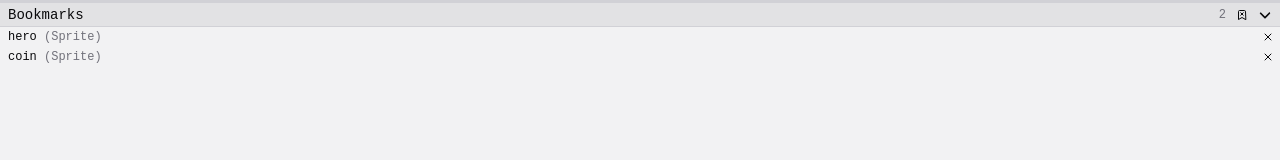
Test: BookmarkList › folding it away › leaves the header and nothing else, and stops setting a height
Click the element showing "Bookmarks 2".
click(640, 15)  # box [0, 3, 1279, 27]
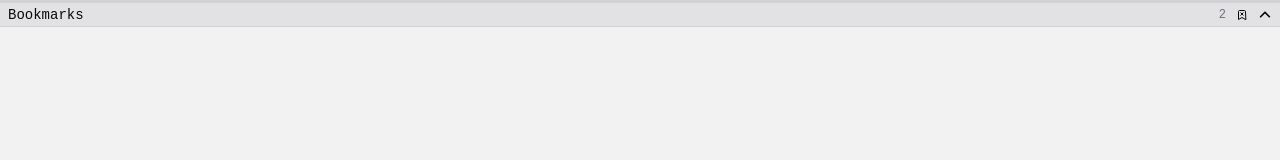
Expected: no list items are shown
